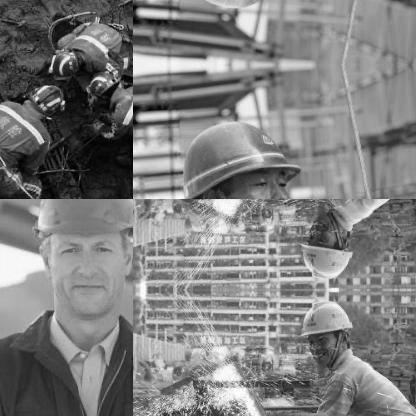Helmet: (22, 199, 132, 334), (166, 104, 312, 198), (296, 290, 356, 364), (296, 212, 356, 286), (25, 82, 65, 114), (47, 47, 79, 77), (83, 70, 114, 96)
